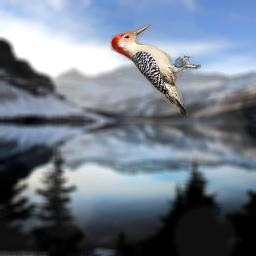Woodpecker: (109, 24, 201, 115)
